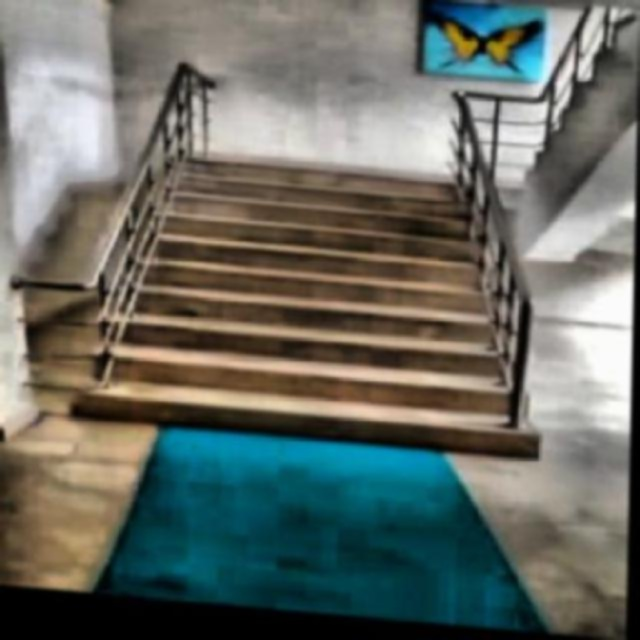stair: (53, 152, 529, 463)
